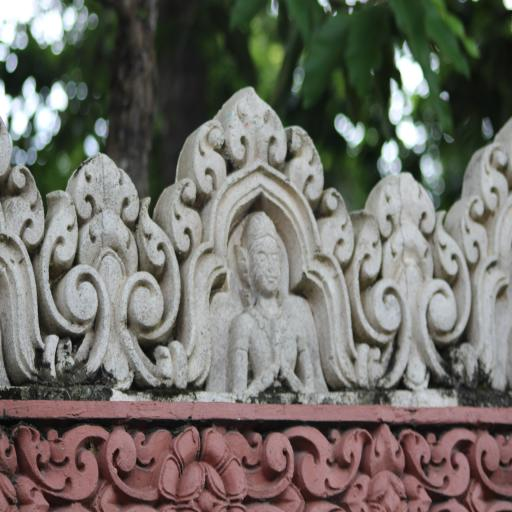lua: (47, 161, 178, 391), (362, 166, 460, 391), (220, 86, 282, 166), (279, 118, 321, 194), (190, 114, 224, 199), (451, 192, 487, 264), (476, 140, 510, 212), (167, 178, 199, 253), (322, 184, 350, 259), (12, 174, 41, 238)
than: (226, 189, 319, 402)
